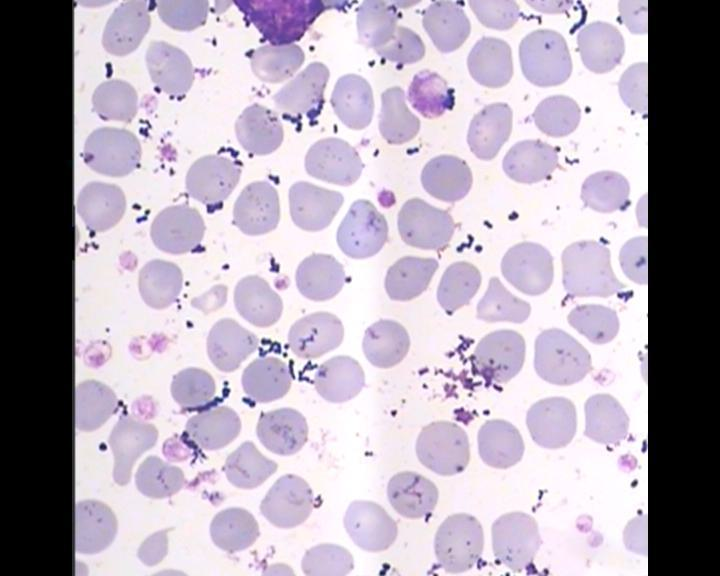baso: (231, 0, 326, 51)
